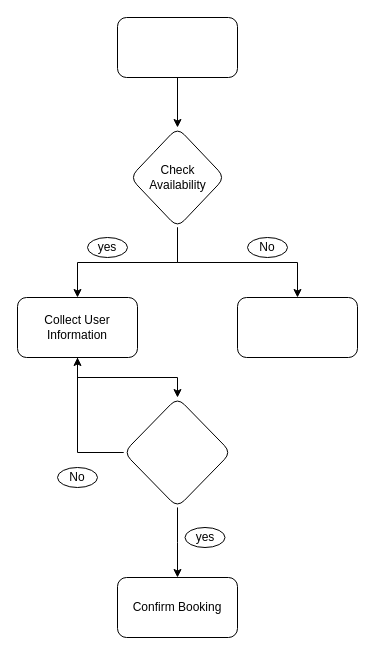
The diagram is 375 pixels wide and 655 high, and some of its shapes have lost their labels. The shapes that lost their labels are listed below. From the top down, each one's centre as x and y in pixels, then its label:
At point 177,47: "Receive Request".
At point 297,327: "Recommend Available Data".
At point 177,452: "Check Payment Status".
